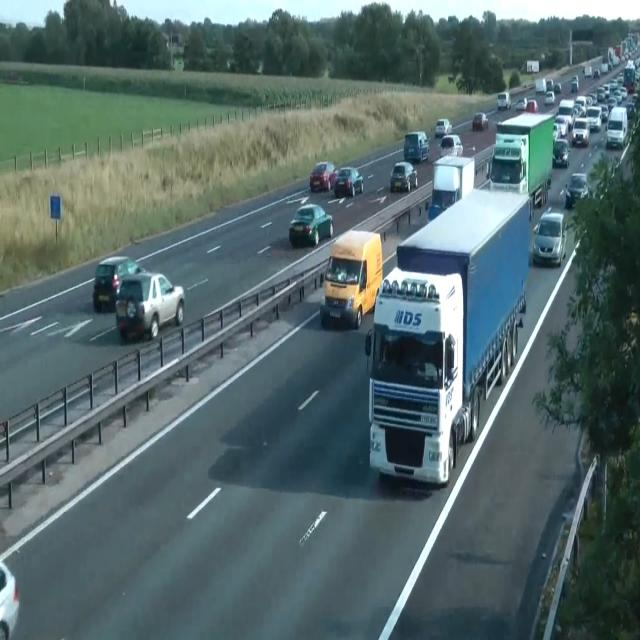bus: (288, 203, 334, 247), (0, 559, 20, 639), (563, 171, 589, 209), (333, 166, 363, 198), (390, 161, 418, 192), (310, 161, 336, 192), (439, 134, 463, 158), (434, 118, 452, 137), (554, 114, 568, 138), (515, 97, 537, 112), (472, 112, 488, 131), (497, 92, 511, 110), (535, 78, 546, 94), (515, 97, 527, 110), (526, 99, 538, 112), (544, 91, 555, 105), (571, 75, 579, 92), (554, 82, 561, 92), (593, 69, 600, 79)
jeep: (114, 270, 184, 342), (92, 255, 142, 312), (532, 208, 566, 267), (605, 105, 627, 148), (403, 130, 429, 162), (571, 116, 590, 146), (552, 137, 570, 167)
minibus: (364, 187, 532, 487), (480, 111, 554, 215), (319, 229, 383, 330), (428, 154, 474, 222), (526, 59, 538, 73)
